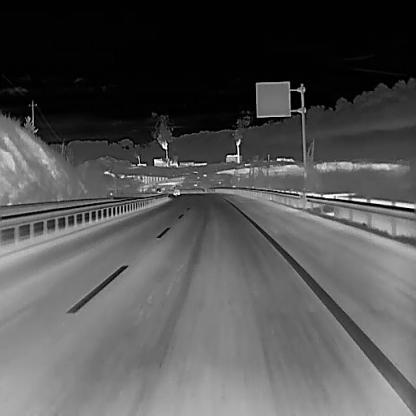car: (171, 184, 179, 195), (155, 186, 162, 193)
